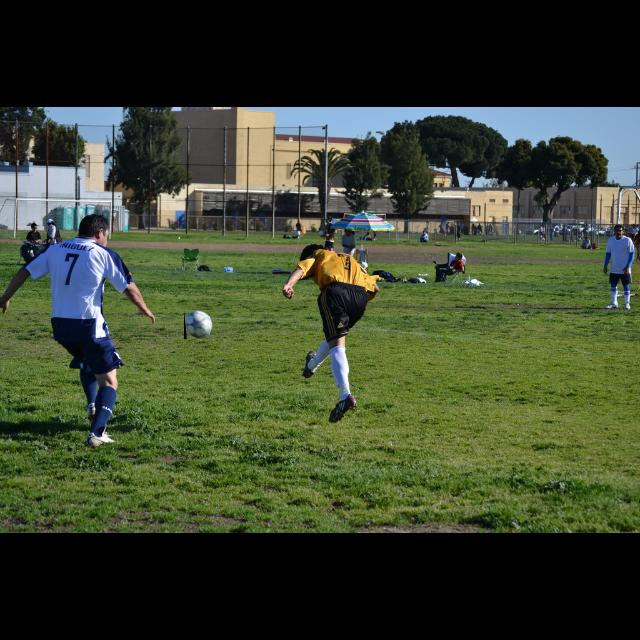Football: (184, 309, 210, 339)
